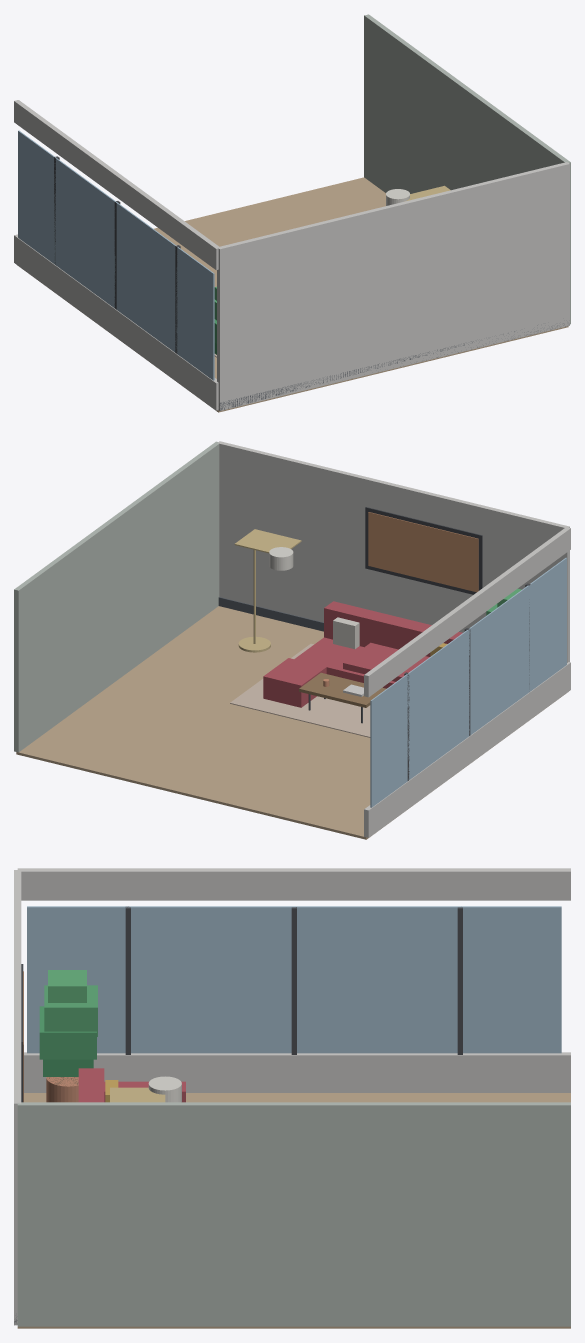
The picture shows the model from 3 angles, top to bottom: view 1: azimuth 30°, elevation 25°; view 2: azimuth 150°, elevation 25°; view 3: azimuth 270°, elevation 25°; orthographic projection. The views are drawn at different scales.
Parts seen in each view (by area): view 1: back_wall, window_glass, right_wall, floor, left_bottom, left_top, baseboard; view 2: floor, right_wall, back_wall, window_glass, art_canvas, left_bottom, left_top, rug, sofa_part_1, sofa_part_3, sofa_part_0, art_frame (+6 smaller); view 3: right_wall, window_glass, left_bottom, left_top, floor, back_wall, plant_leaves_2, plant_leaves_1, plant_leaves_3, sofa_part_1, mullion_1.8, mullion_-1.8 (+5 smaller).
Boxes of the visible parts, box(x1,y1,x2,y2) form: back_wall: box(217, 162, 569, 410); window_glass: box(18, 130, 214, 380); right_wall: box(364, 14, 570, 324); floor: box(17, 177, 568, 412); left_bottom: box(14, 234, 218, 410); left_top: box(14, 100, 218, 270); baseboard: box(218, 323, 569, 410); floor: box(16, 606, 563, 839); right_wall: box(14, 441, 219, 752); back_wall: box(217, 441, 569, 662); window_glass: box(370, 557, 566, 807); art_canvas: box(368, 512, 478, 592); left_bottom: box(364, 662, 570, 837); left_top: box(364, 527, 570, 697); rug: box(230, 643, 370, 737); sofa_part_1: box(324, 601, 462, 656); sofa_part_3: box(263, 658, 326, 707); sofa_part_0: box(294, 637, 395, 688); art_frame: box(365, 507, 482, 594); right_wall: box(17, 1102, 570, 1326); window_glass: box(27, 906, 561, 1053); left_bottom: box(24, 1052, 570, 1092); left_top: box(17, 868, 570, 900); floor: box(17, 1093, 570, 1328); back_wall: box(14, 870, 21, 1325); plant_leaves_2: box(44, 985, 97, 1036); plant_leaves_1: box(39, 1006, 96, 1059); plant_leaves_3: box(48, 970, 86, 1002); sofa_part_1: box(78, 1068, 104, 1102); mullion_1.8: box(125, 906, 130, 1054); mullion_-1.8: box(457, 907, 462, 1054).
Bounding box in the file's own units: 6.08 × 2.69 × 6.04.
